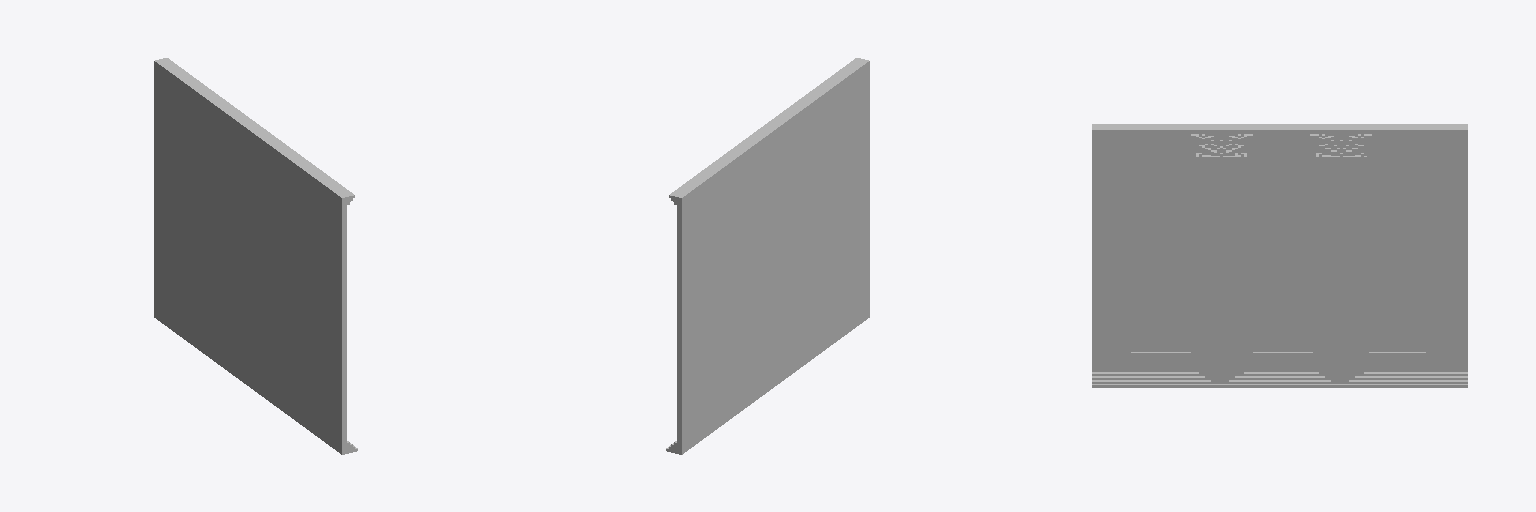
The model's file is wall1.obj.
The picture shows the model from 3 angles: view 1: azimuth 30°, elevation 25°; view 2: azimuth 150°, elevation 25°; view 3: azimuth 270°, elevation 25°; orthographic projection.
Size of the model in its own units: 6 by 95 by 126.